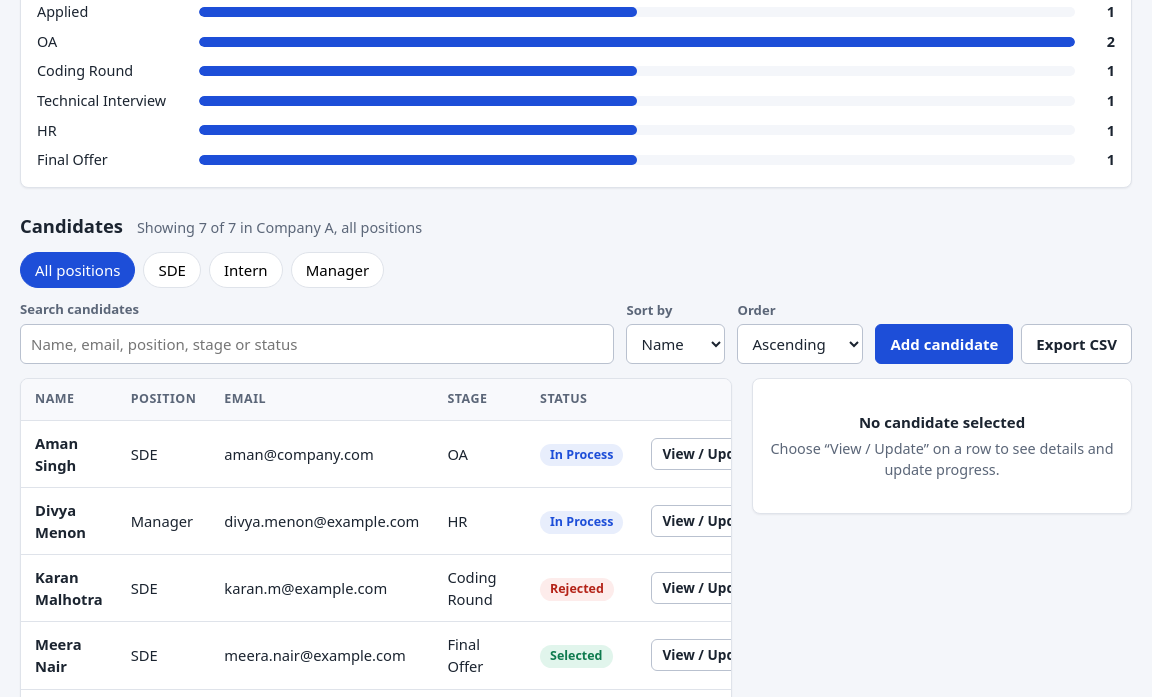
Test: App › validates and adds a candidate end to end
(page scrolled)
Click the button "Add candidate".
click(944, 344)  # box [876,324,1013,364]
(page scrolled)
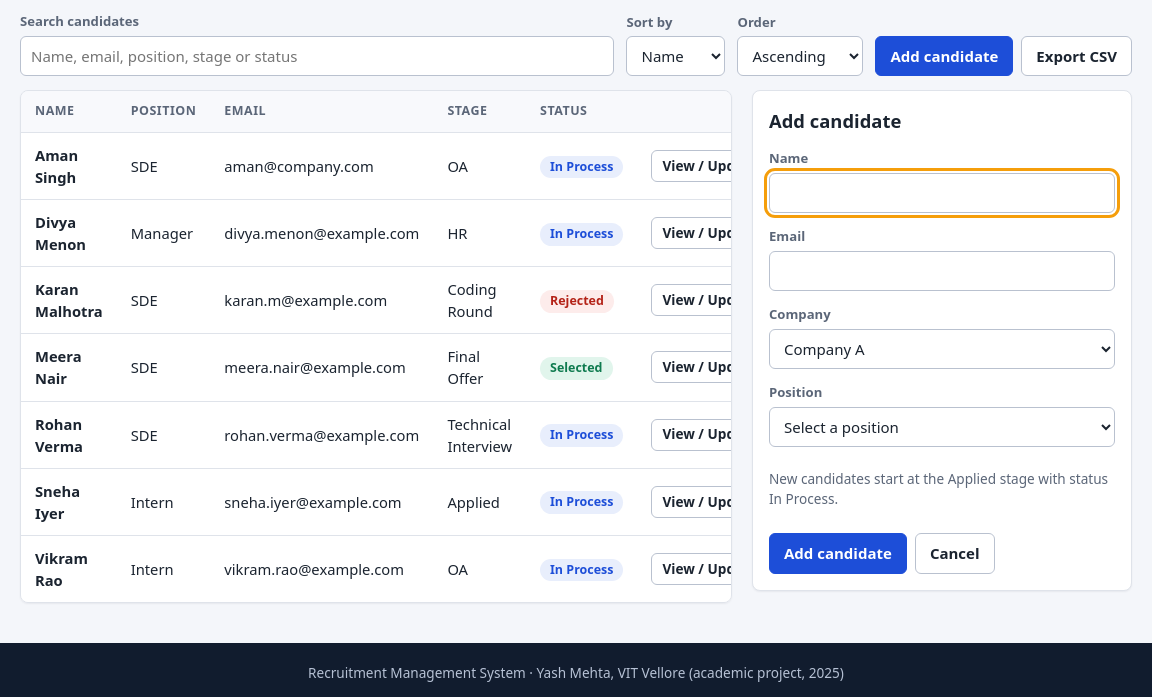
Click the button "Add candidate" in the row of "vikram.rao@example.com".
click(838, 554)  # box [769,533,907,574]
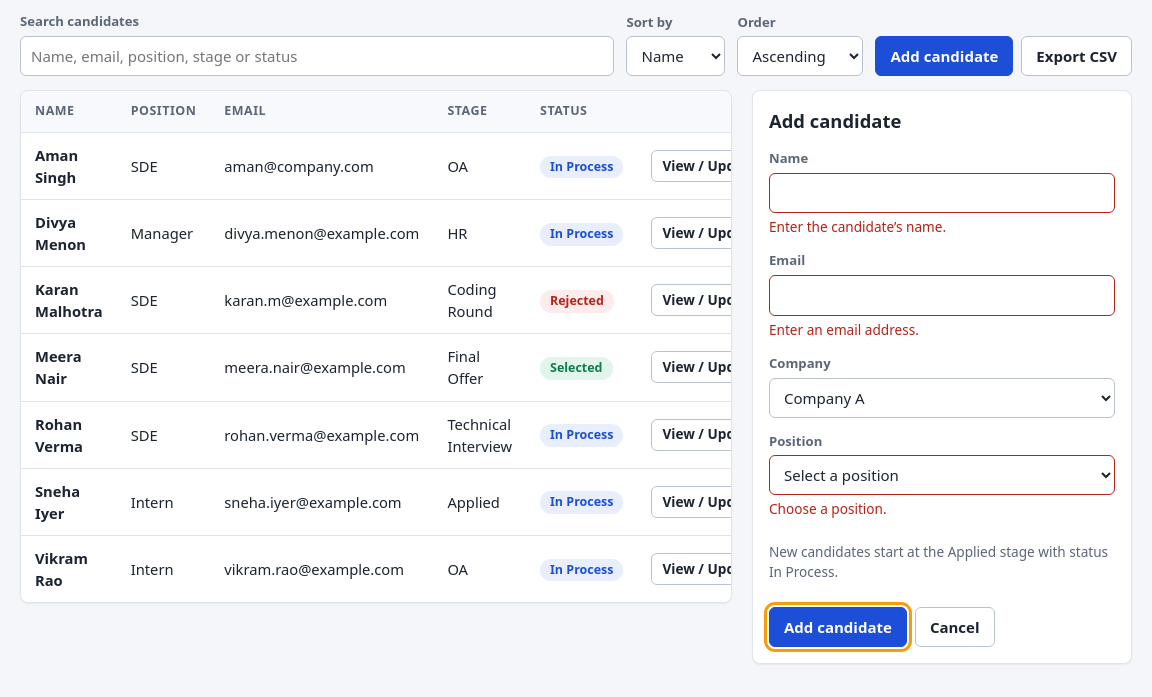
Expected: the text "Enter the candidate’s name." is shown, [769,217,946,236]
Expected: the text "Enter an email address." is shown, [769,320,919,339]
Type "Nina Test" into the field labelled "Name".
click(942, 193); type("Nina Test")  # box [769,172,1115,213]
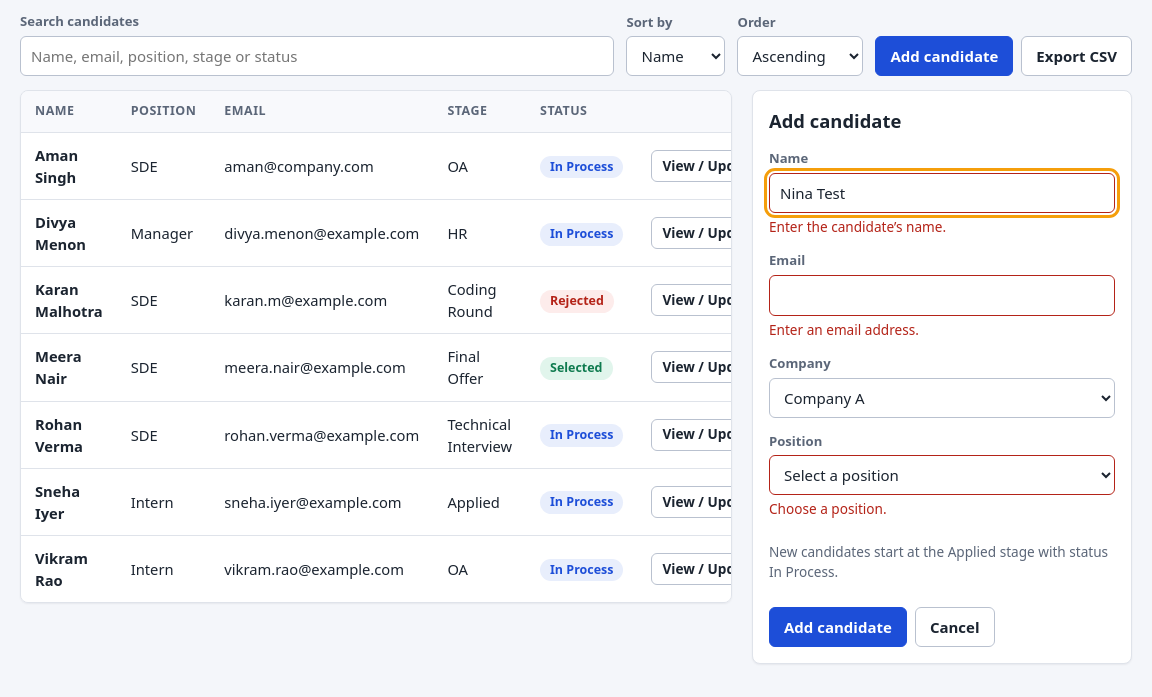
Type "nina@example.com" into the field labelled "Email".
click(942, 295); type("nina@example.com")  # box [769,275,1115,316]
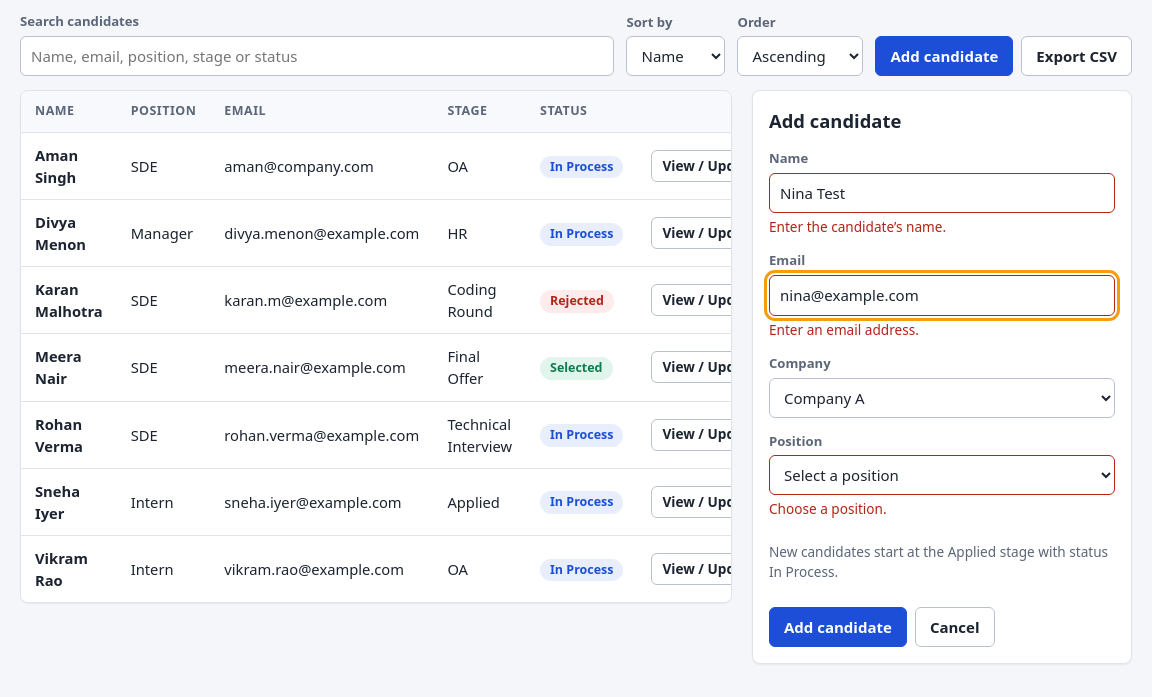
Select "Intern" in the dropdown labelled "Position" at {"x": 942, "y": 475}, box [769,455,1115,495]
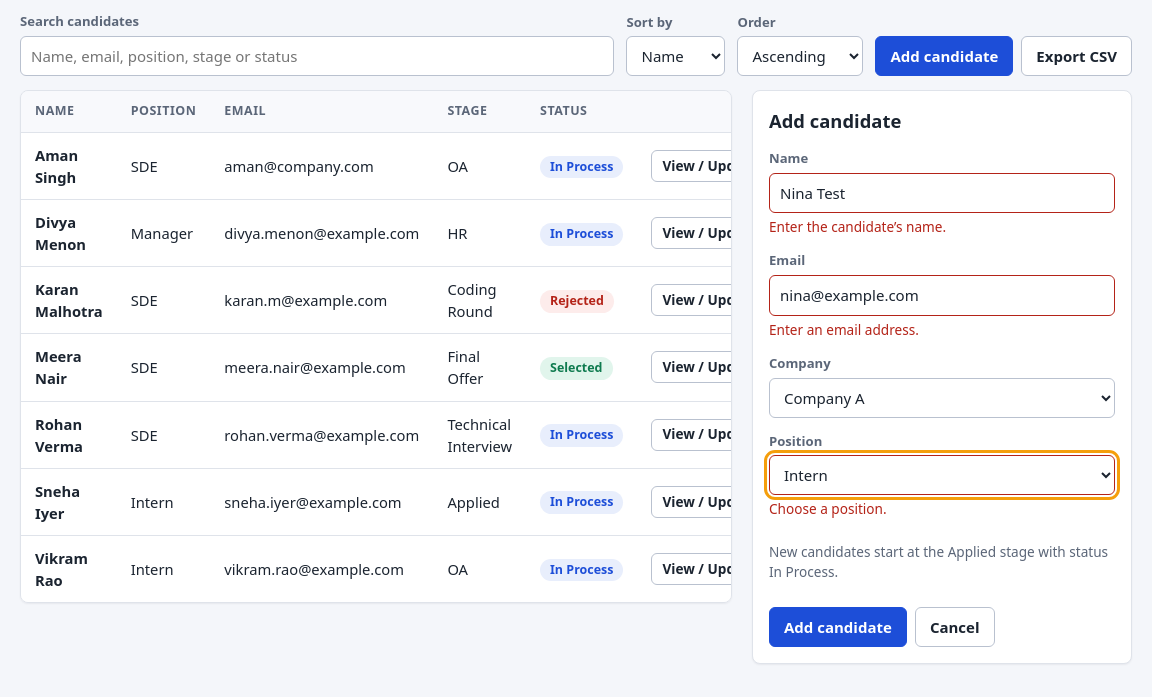
Click the button "Add candidate" below "Choose a position.".
click(838, 627)  # box [769,606,907,647]
(page scrolled)
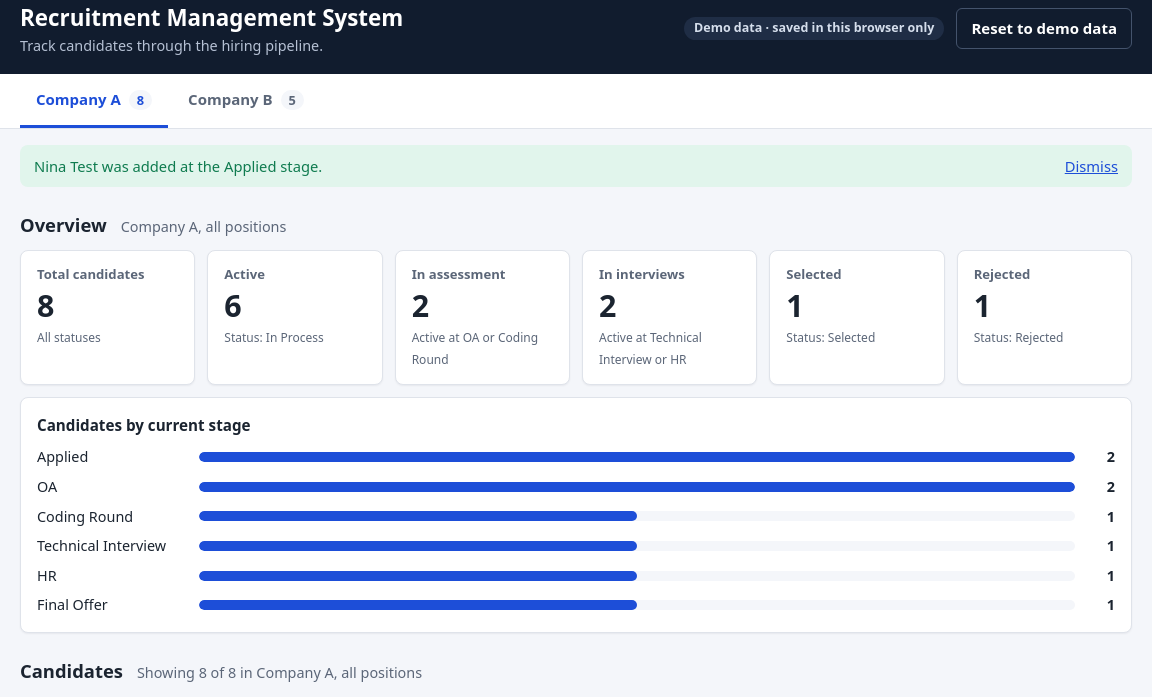
Expected: the message shows "Nina Test was added", [34,156,322,176]
Expected: the text "Nina Test was added at the Applied stage." is shown, [34,155,322,177]
